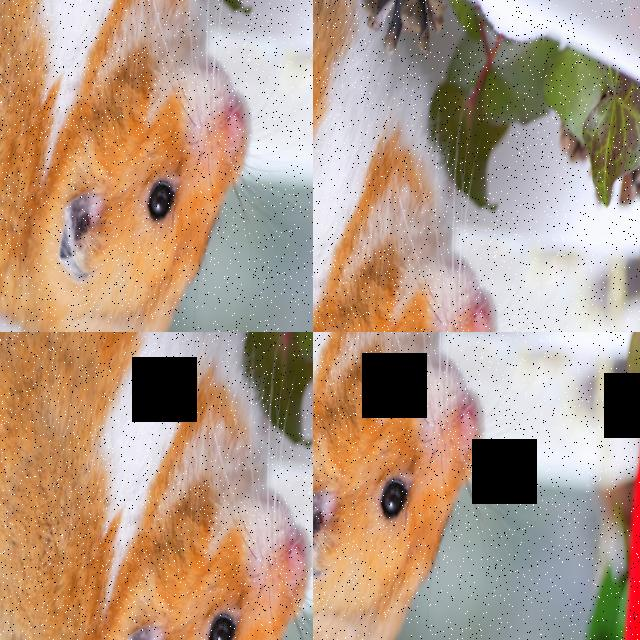hamster: (313, 332, 542, 640), (313, 0, 640, 186), (88, 0, 290, 283), (218, 500, 313, 640)
